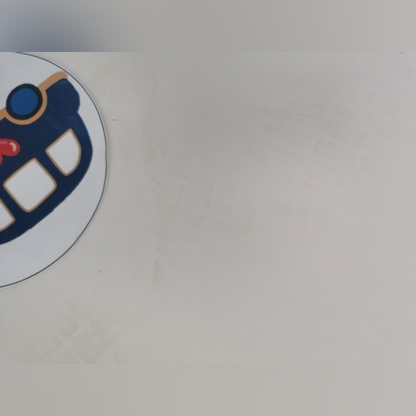car: (0, 62, 94, 270)
